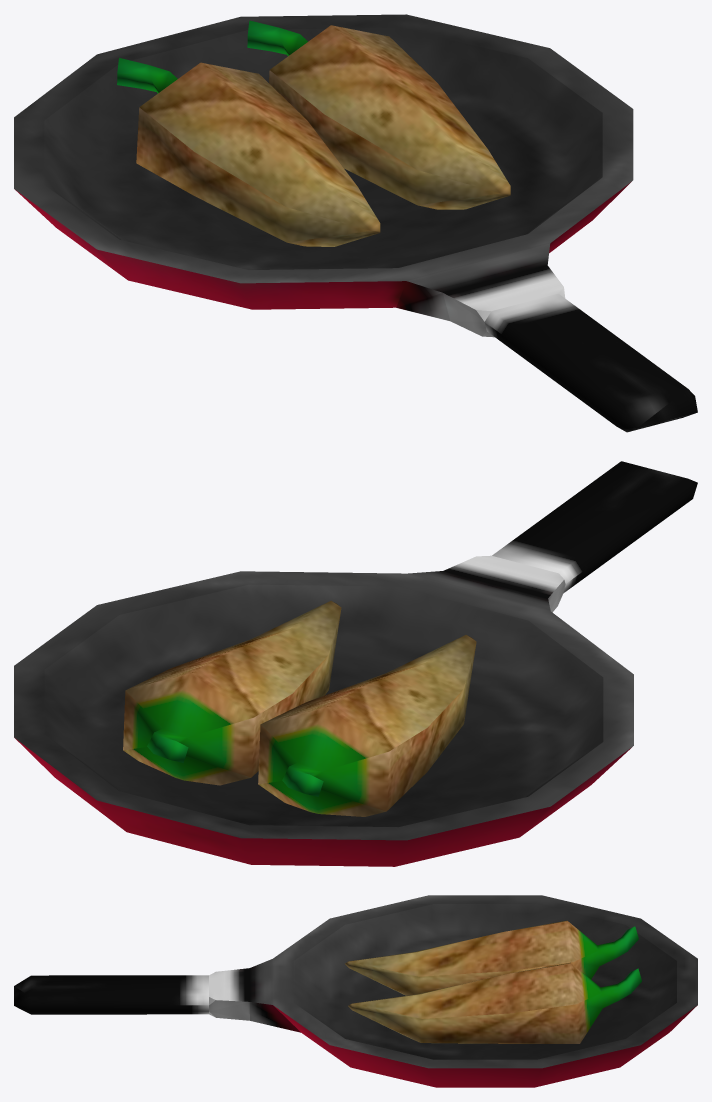
Rendered from AL_ChilesRellenos.fbx.
3 renders of one model, top to bottom at view 1: azimuth 30°, elevation 25°; view 2: azimuth 150°, elevation 25°; view 3: azimuth 270°, elevation 25°, orthographic. The views are drawn at different scales.
Parts seen in each view (by area): view 1: Taco.002; view 2: Taco.002; view 3: Taco.002.
Boxes of the visible parts, x1,y1,x2,y2 form: Taco.002: [14, 14, 697, 432]; Taco.002: [14, 461, 697, 866]; Taco.002: [14, 895, 697, 1087].
Size of the model in its own units: 0.6984 by 0.098 by 0.4341.
